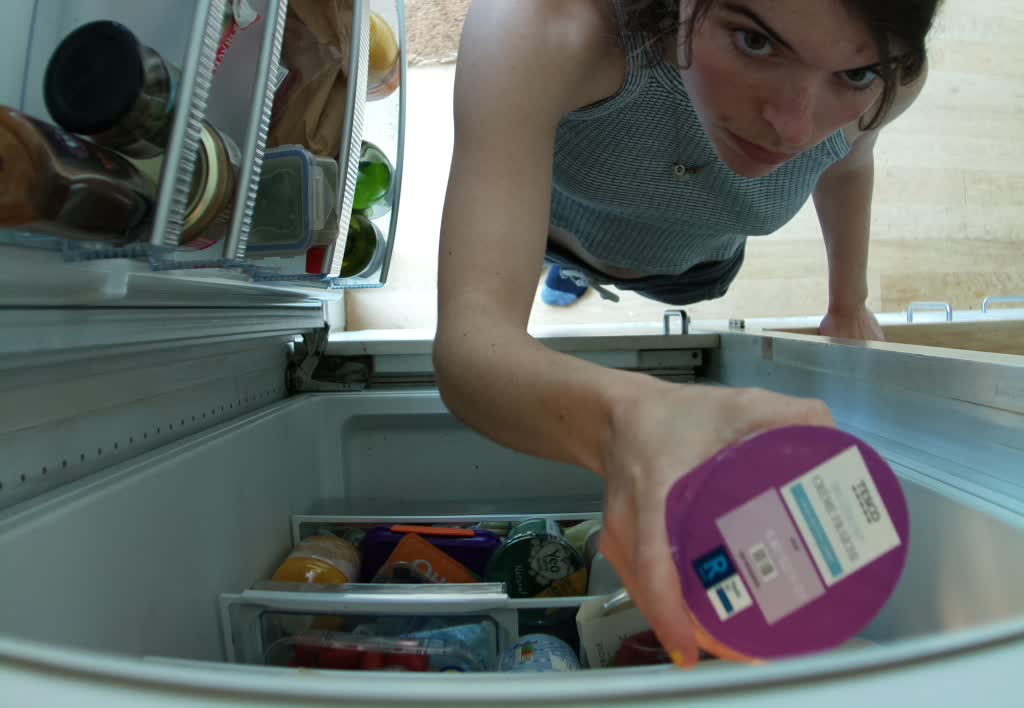cream: (670, 424, 910, 659)
